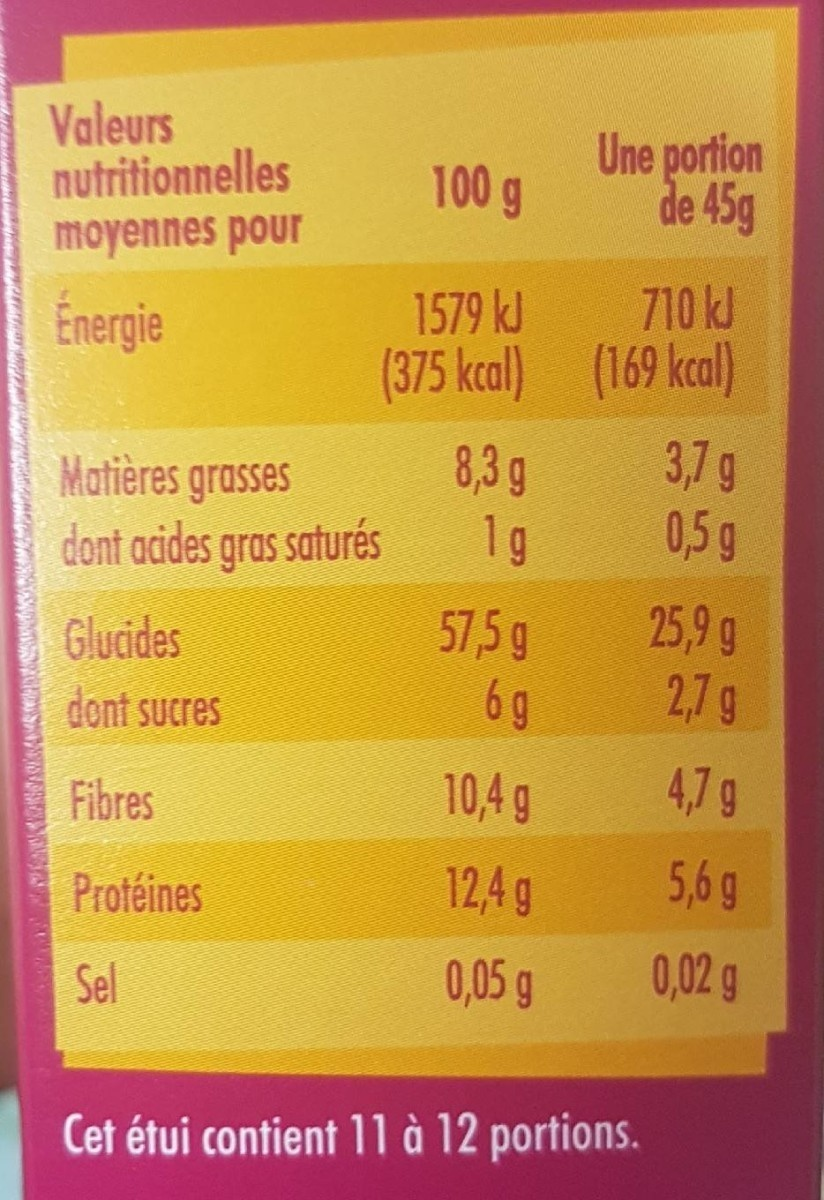column: (47, 75, 533, 1064), (587, 88, 778, 1063)
table: (13, 75, 789, 1064)
